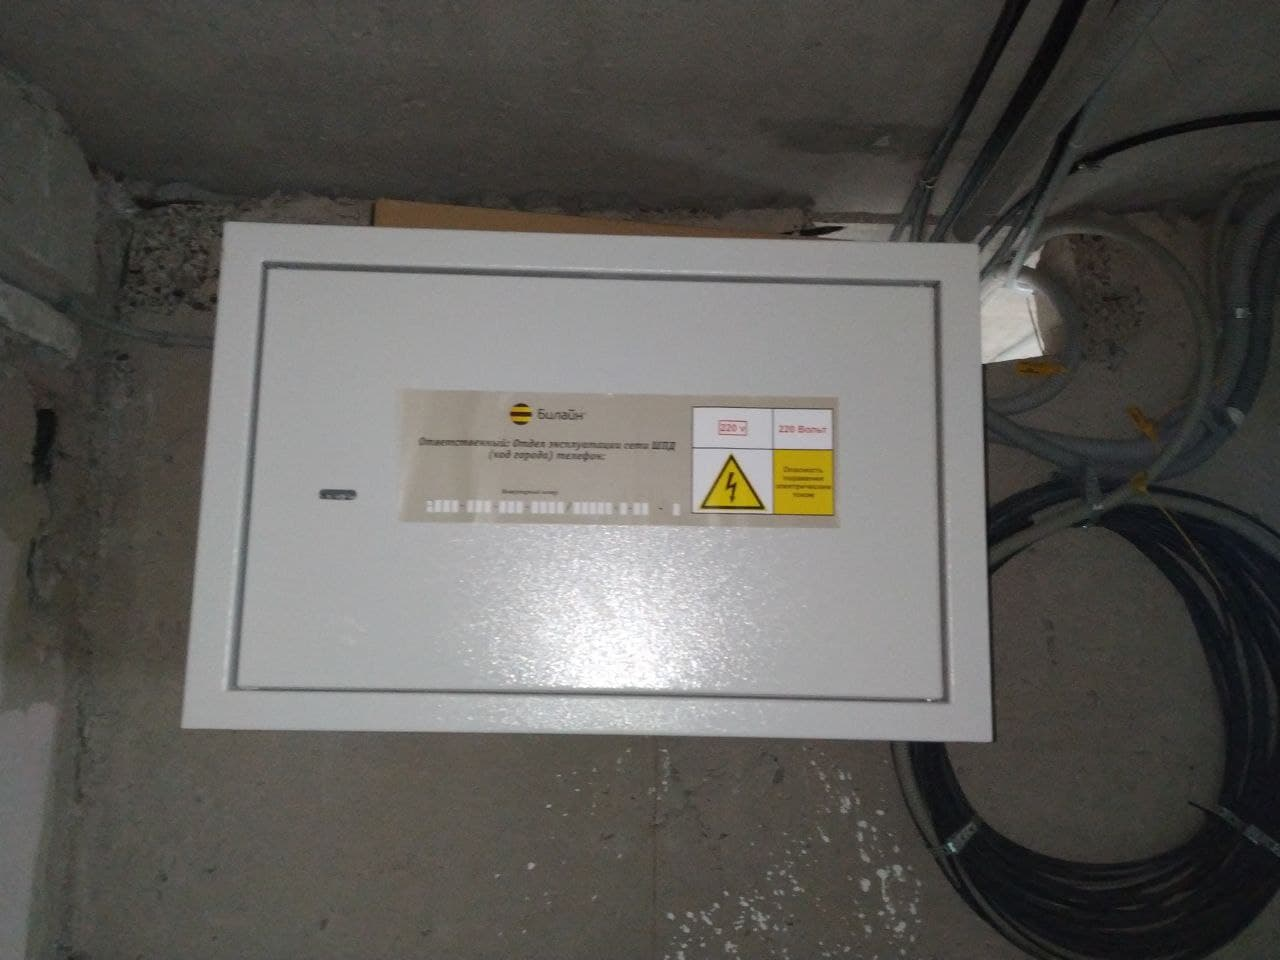shta-7m: (163, 205, 1006, 750)
